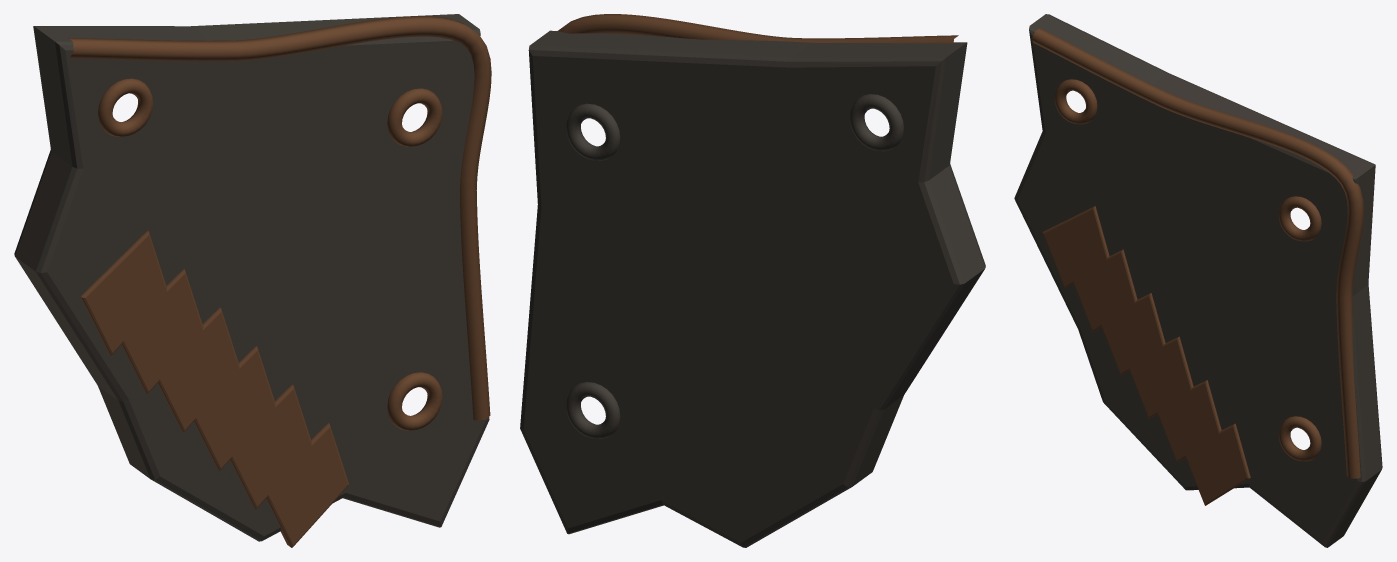
Rendered from ashseal_iron.glb.
The picture shows the model from 3 angles, left to right: view 1: azimuth 30°, elevation 25°; view 2: azimuth 150°, elevation 25°; view 3: azimuth 330°, elevation 25°; orthographic projection. The views are drawn at different scales.
Visible parts, largest first — view 1: Rough ash-black shield iron, Oxidized broken iron edges; view 2: Rough ash-black shield iron, Oxidized broken iron edges; view 3: Rough ash-black shield iron, Oxidized broken iron edges.
Part boxes in pixels (x1,y1,x2,y2): Rough ash-black shield iron: [14, 14, 489, 541]; Oxidized broken iron edges: [68, 16, 491, 547]; Rough ash-black shield iron: [520, 30, 985, 547]; Oxidized broken iron edges: [558, 14, 958, 43]; Rough ash-black shield iron: [1014, 14, 1382, 547]; Oxidized broken iron edges: [1032, 28, 1363, 505].
Bounding box in the file's own units: 0.1002 × 0.1227 × 0.015.
